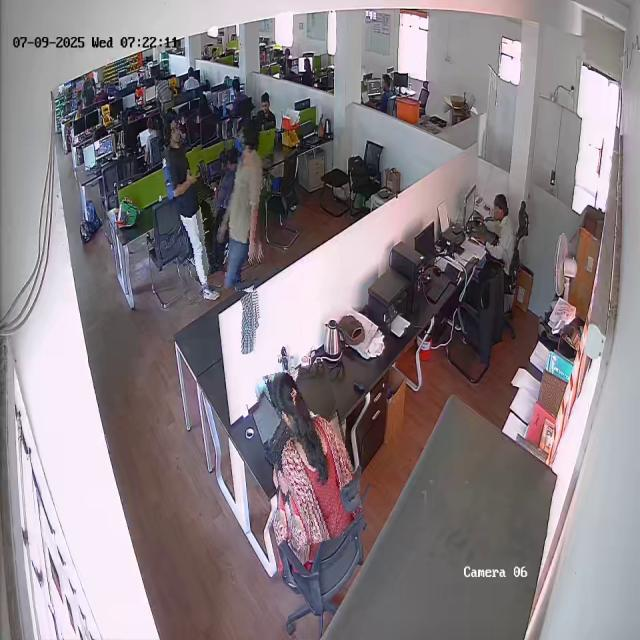person: (262, 364, 358, 545), (161, 111, 220, 304), (212, 117, 271, 291), (484, 192, 518, 266)
